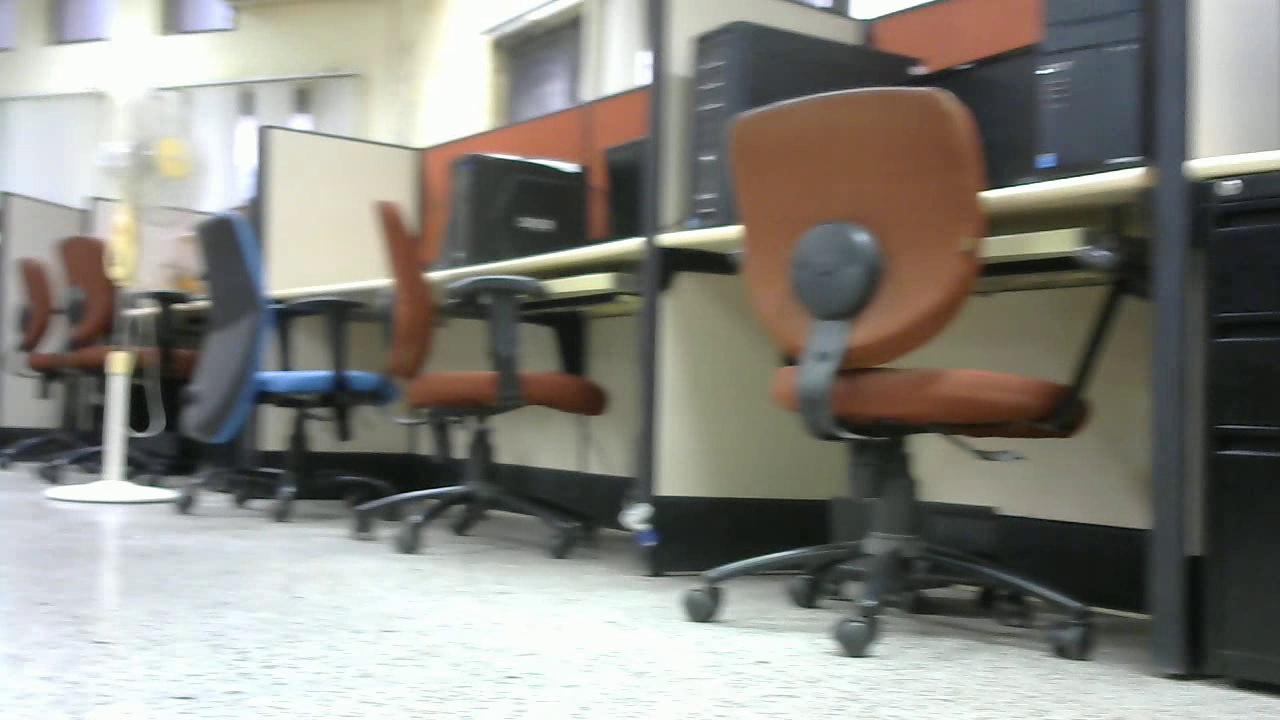chair: (677, 87, 1141, 663), (339, 199, 610, 558), (173, 214, 405, 519), (12, 218, 201, 498)
